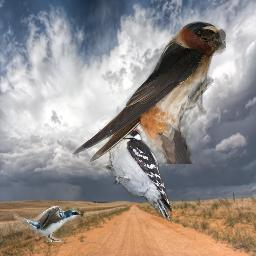Swallow: (71, 21, 226, 164), (13, 205, 81, 242)
Woodpecker: (99, 124, 172, 223)
